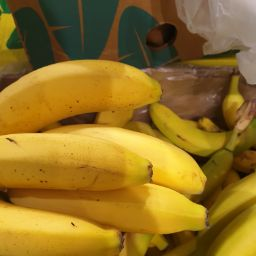Bannana: (7, 127, 216, 256), (118, 69, 256, 256), (1, 60, 174, 205), (146, 96, 256, 256)
